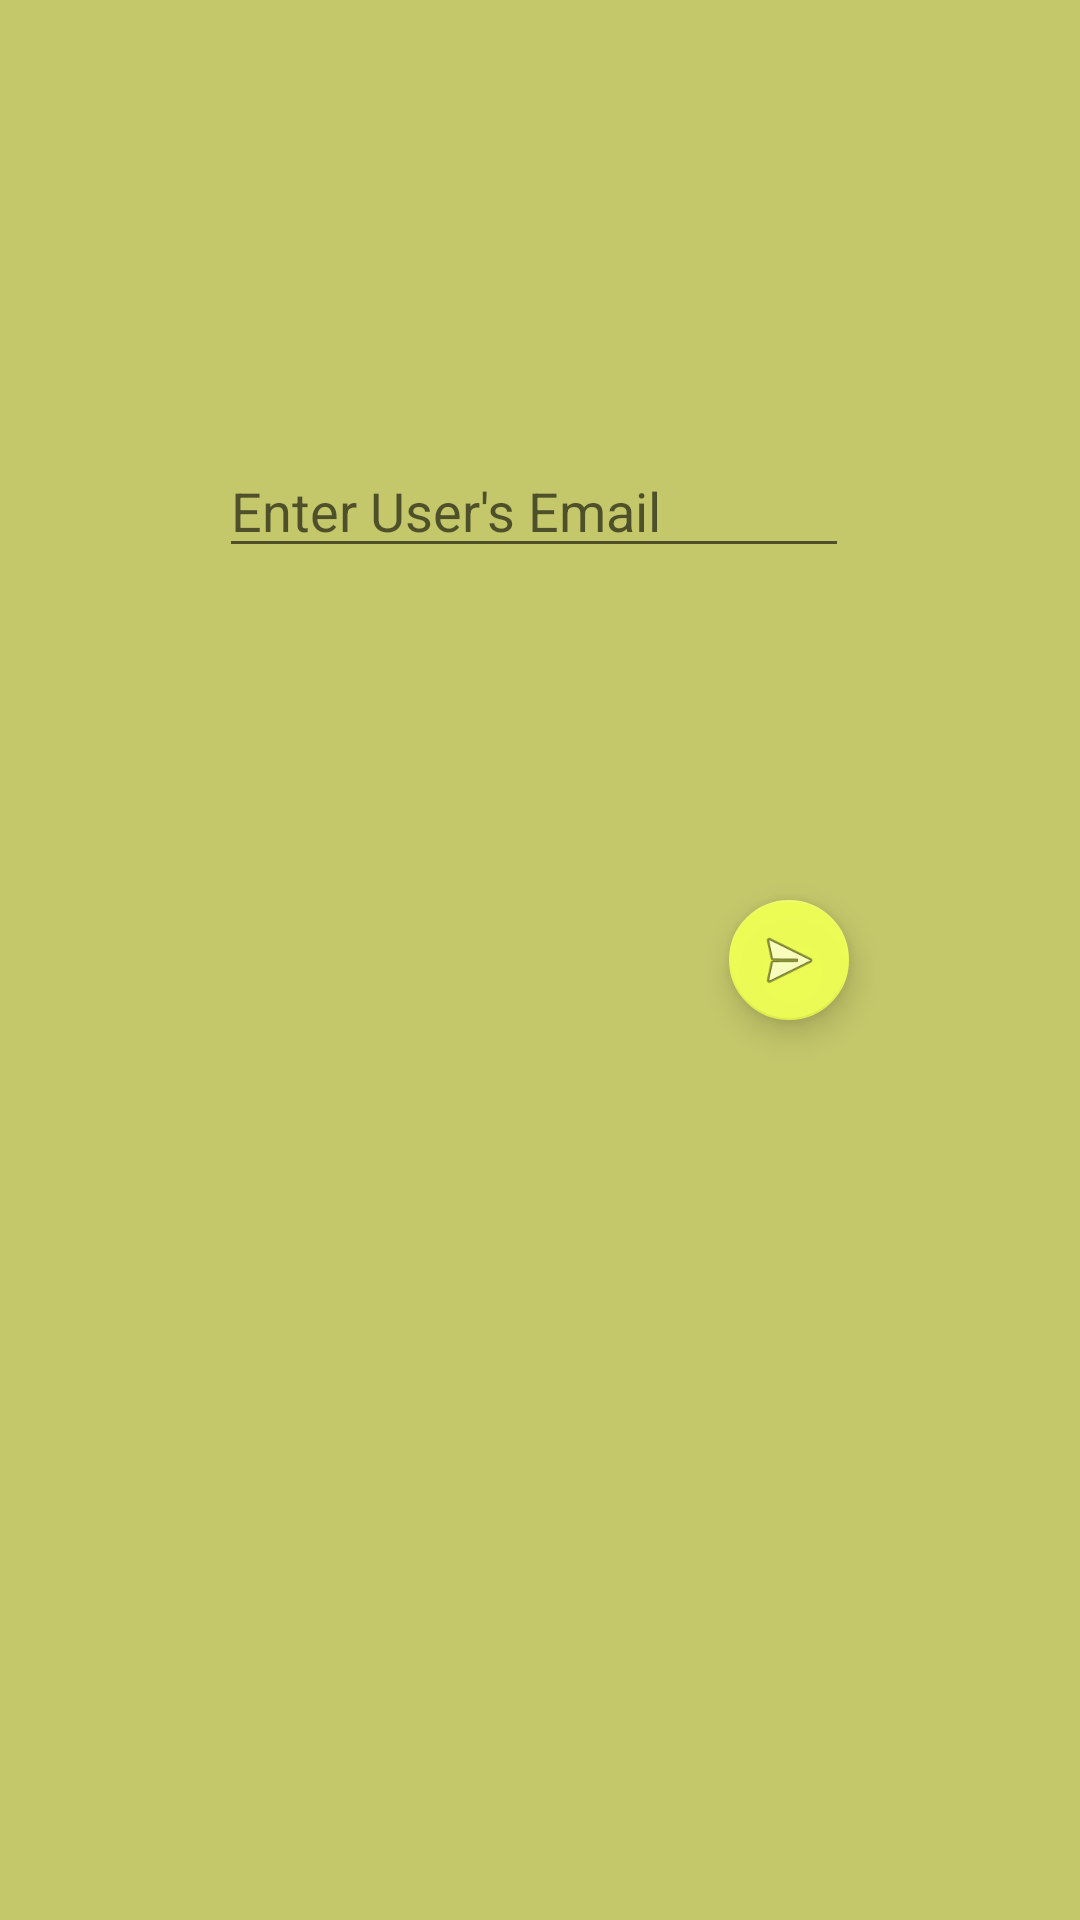

Screen size 1080×1920. Icon name, then its center in pixels as (x=x, y=y):
send: (x=789, y=960)
